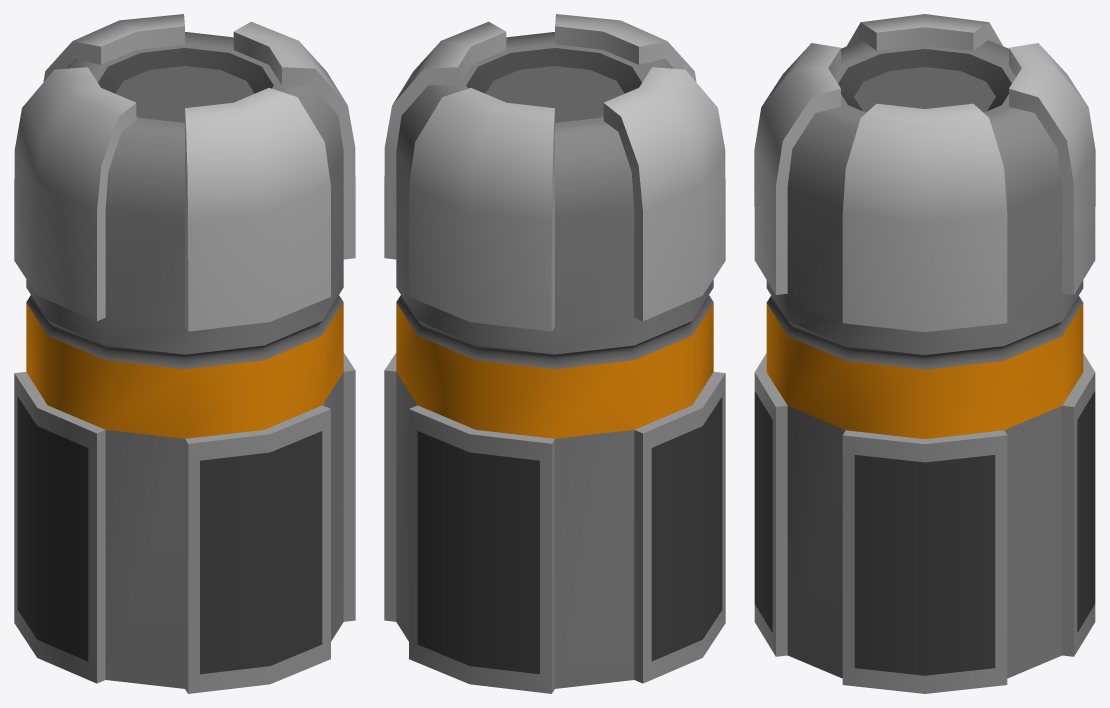
The model's file is SM_RoundCrate_02.fbx.
The picture shows the model from 3 angles, left to right: view 1: azimuth 30°, elevation 25°; view 2: azimuth 150°, elevation 25°; view 3: azimuth 270°, elevation 25°; orthographic projection.
Parts seen in each view (by area): view 1: SM_RoundCrate_02; view 2: SM_RoundCrate_02; view 3: SM_RoundCrate_02.
Boxes of the visible parts, <box> form: SM_RoundCrate_02: <box>14,14,355,693</box>; SM_RoundCrate_02: <box>384,14,725,693</box>; SM_RoundCrate_02: <box>754,14,1095,693</box>.
Bounding box in the file's own units: 45.25 × 81.01 × 45.25.
Materials: 1 (1 with a texture image).
